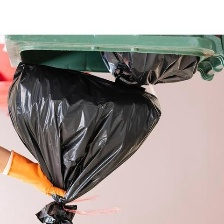plastic_bag: (0, 57, 163, 224), (95, 46, 205, 103)
